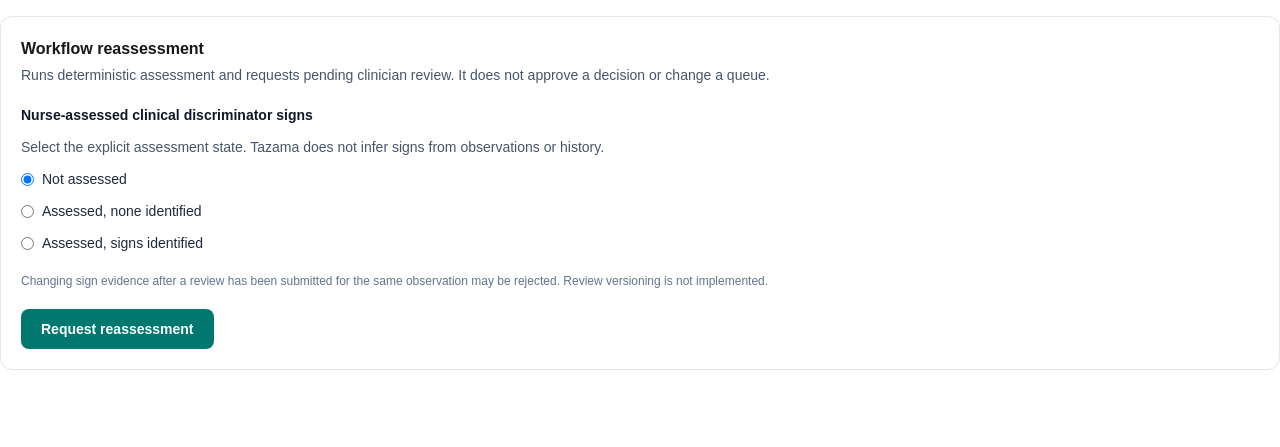
ReassessmentPanel › shows backend unavailable
Click the button "Request reassessment". click: (117, 329)
box: 21,309 -> 214,349
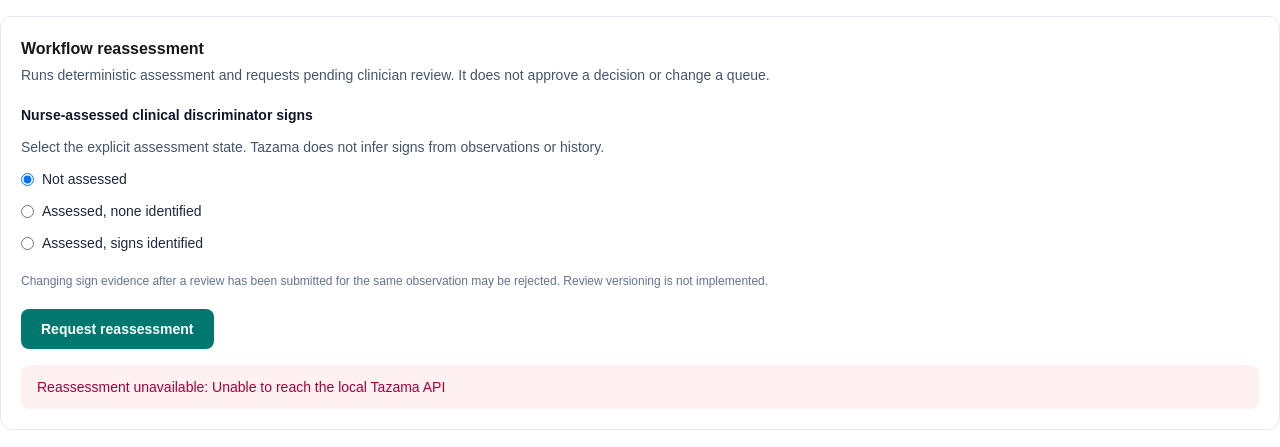
Expected: the message shows "Unable to reach the local Tazama API", 212,379 -> 445,395
